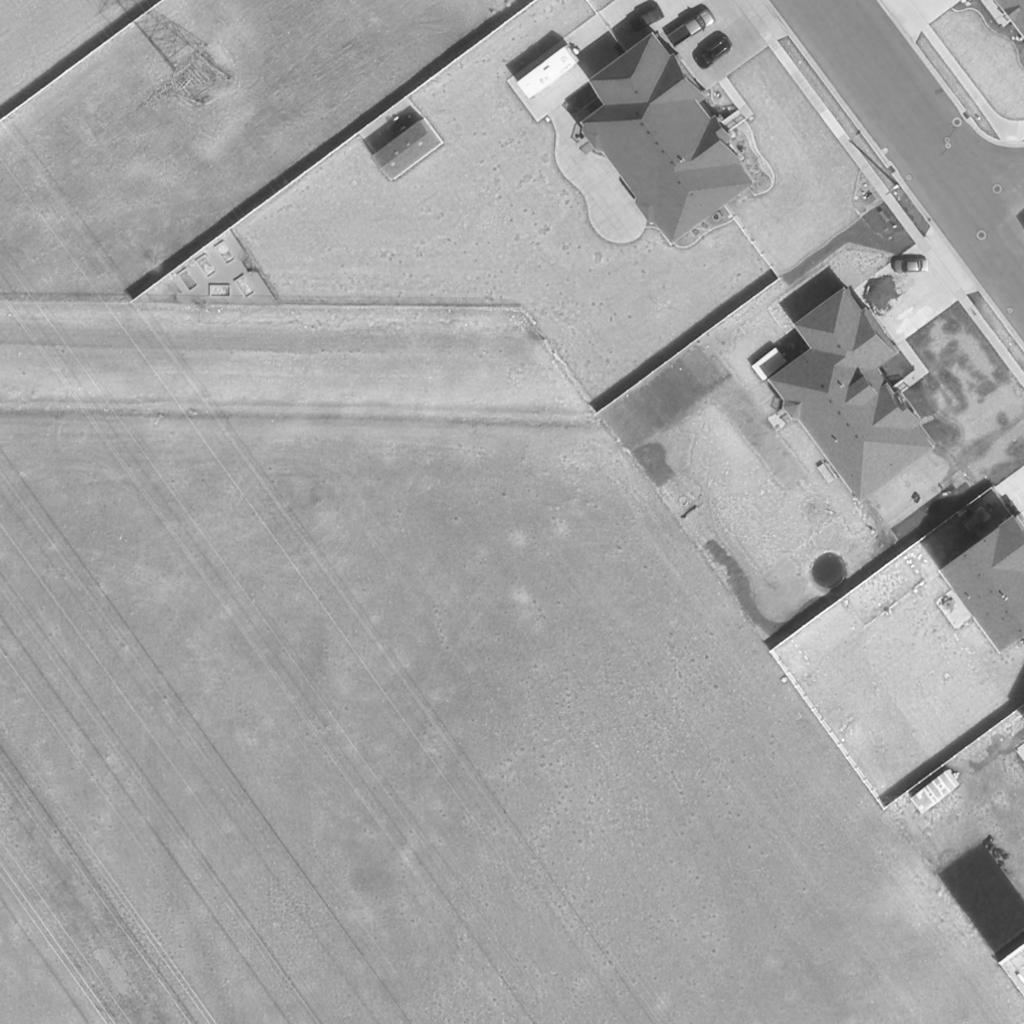vehicle: (517, 43, 585, 99), (910, 767, 966, 815), (667, 7, 715, 49), (751, 346, 791, 382), (696, 38, 734, 72), (629, 8, 665, 34), (892, 260, 928, 272)
